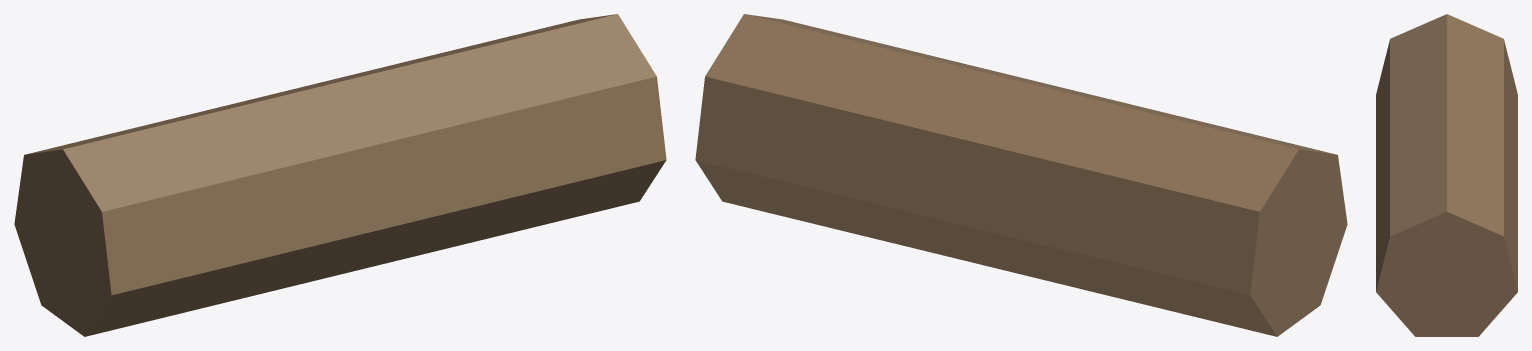
The model's file is log_seat.glb.
3 views of the same model, side by side, from view 1: azimuth 30°, elevation 25°; view 2: azimuth 150°, elevation 25°; view 3: azimuth 270°, elevation 25° (orthographic). The views are drawn at different scales.
Visible parts, largest first — view 1: log_seat2; view 2: log_seat2; view 3: log_seat2.
Boxes of the visible parts, bbox=[...] form: log_seat2: bbox=[14, 14, 666, 336]; log_seat2: bbox=[695, 14, 1347, 336]; log_seat2: bbox=[1376, 14, 1517, 336].
Bounding box in the file's own units: 1.8 × 0.5323 × 0.546.
